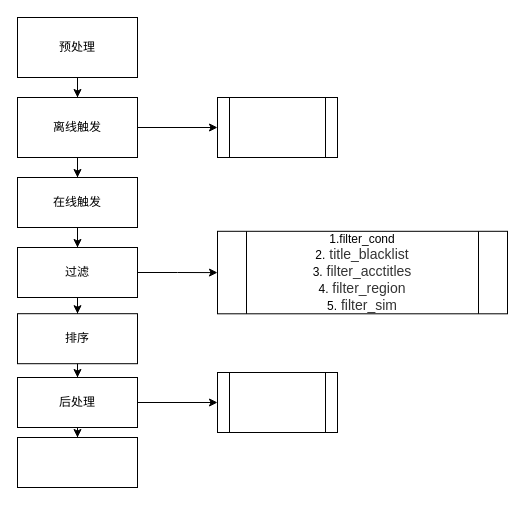
Some shapes in this 525 by 505 pixel diagram are drawn without their labels. The shapes that lost their labels are listed below. From the top down, each one's centre as x and y in pixels, then its label:
At [277,127]: "search_biz".
At [277,402]: "package_res".
At [77,462]: "分页输出".
